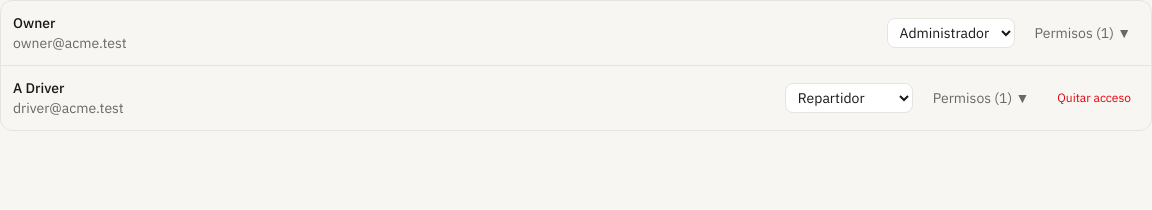
Test: UsersTable — revoking access › surfaces a refusal and reopens the way back
The width and height of the screenshot is (1152, 210).
Click the button "Quitar acceso".
click(1094, 98)  # box x1=1049 y1=86 x2=1139 y2=110
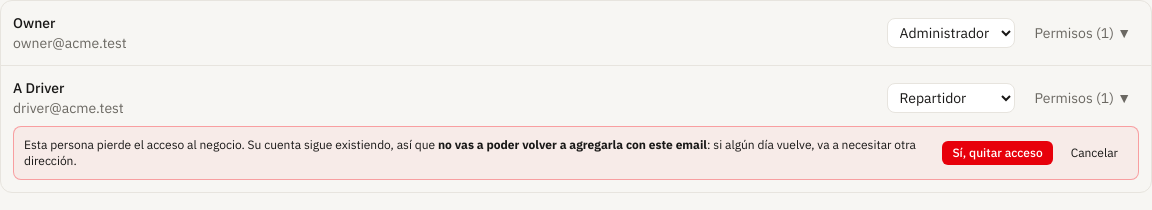
Click the button "Sí, quitar acceso".
click(998, 153)  # box x1=942 y1=141 x2=1053 y2=165
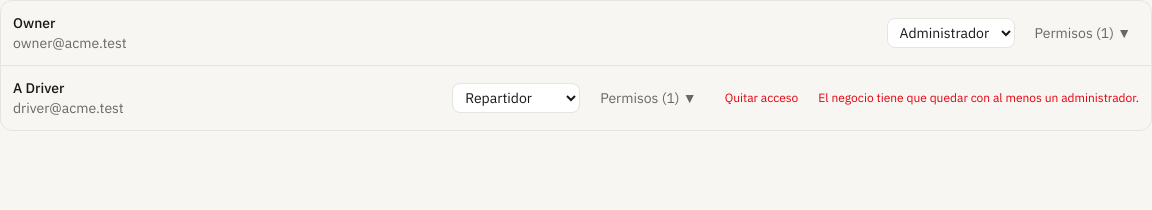
Expected: the button "Quitar acceso" is shown, x1=717 y1=86 x2=806 y2=110
Expected: the message shows "al menos un administrador", x1=818 y1=90 x2=1139 y2=105
